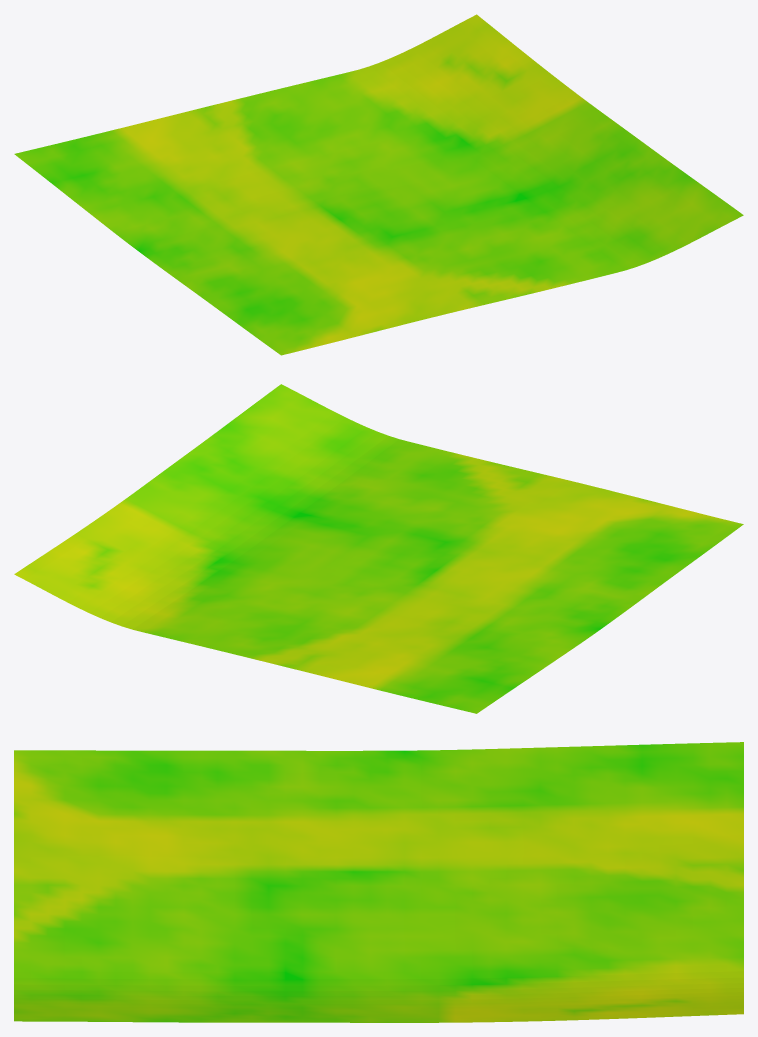
File: terrain_2_3.glb
The picture shows the model from 3 angles, top to bottom: view 1: azimuth 30°, elevation 25°; view 2: azimuth 150°, elevation 25°; view 3: azimuth 270°, elevation 25°; orthographic projection. The views are drawn at different scales.
Visible parts, largest first — view 1: terrain_2_3; view 2: terrain_2_3; view 3: terrain_2_3.
Boxes of the visible parts, box(x1,y1,x2,y2) form: terrain_2_3: box(14, 14, 743, 355); terrain_2_3: box(14, 384, 743, 713); terrain_2_3: box(14, 742, 743, 1022).
Bounding box in the file's own units: 85 × 5.81 × 85.
